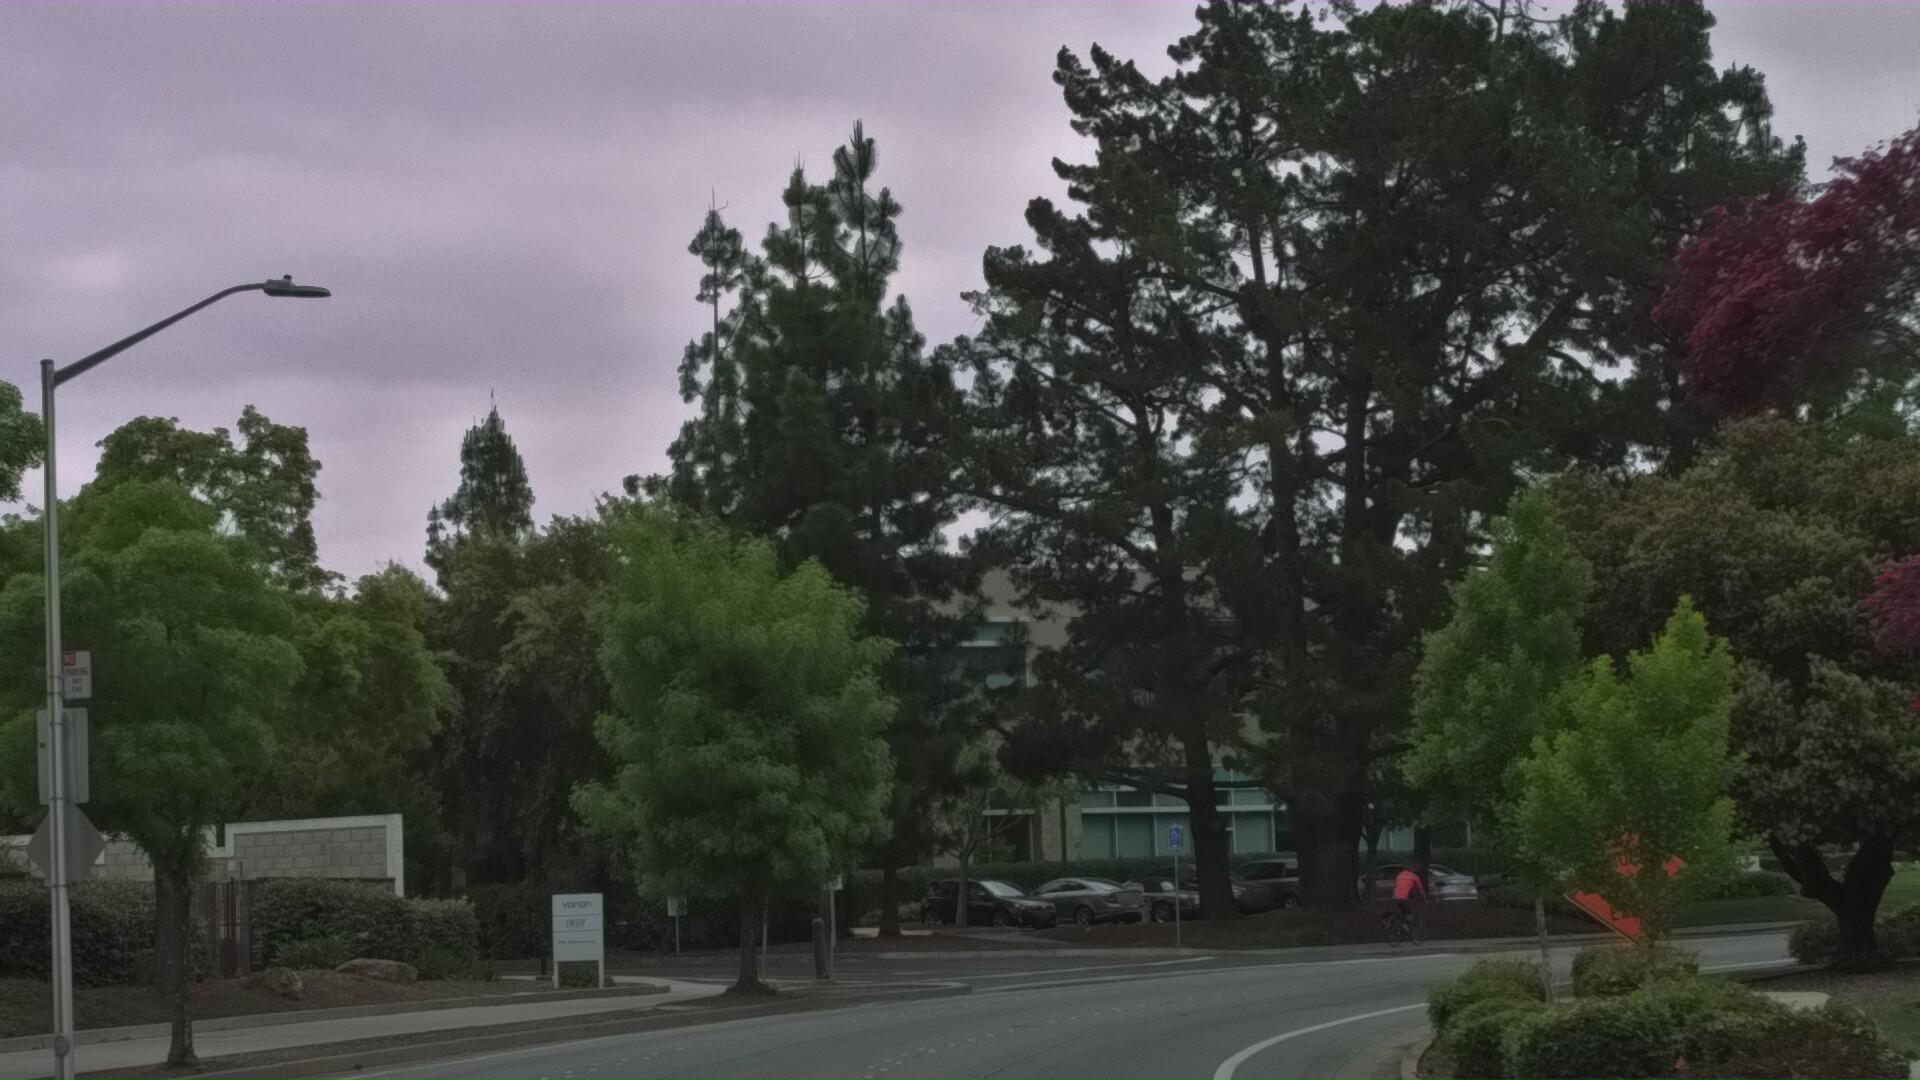bicycle: (1331, 953, 1481, 1080)
